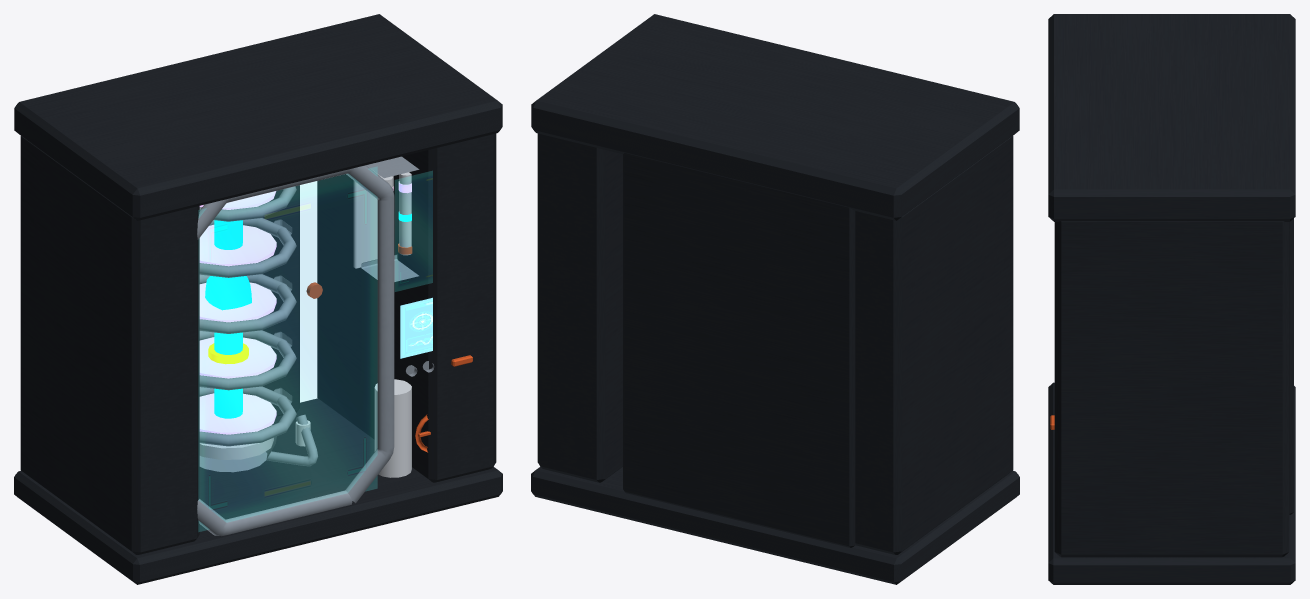
The model's file is reactor_core_r1_05.glb.
The picture shows the model from 3 angles, left to right: view 1: azimuth 30°, elevation 25°; view 2: azimuth 150°, elevation 25°; view 3: azimuth 270°, elevation 25°; orthographic projection.
Parts seen in each view (by area): view 1: Reactor05_SpinTorqueGunmetalHousing, Reactor05_TranslucentRotorDrumShields, Reactor05_StatorRingsAndSubCoolerPipes, Reactor05_UVFieldRings, Reactor05_WhiteSubCoolerManifoldAndRods, Reactor05_CyanStatorPlasmaCore, Reactor05_OLEDTorqueConsole, Reactor05_SignalOrangeTorqueValves; view 2: Reactor05_SpinTorqueGunmetalHousing; view 3: Reactor05_SpinTorqueGunmetalHousing.
Part boxes in pixels (x1,y1,x2,y2): Reactor05_SpinTorqueGunmetalHousing: (14,14,502,584); Reactor05_TranslucentRotorDrumShields: (199,167,432,531); Reactor05_StatorRingsAndSubCoolerPipes: (197,156,434,536); Reactor05_UVFieldRings: (199,181,411,434); Reactor05_WhiteSubCoolerManifoldAndRods: (199,169,411,477); Reactor05_CyanStatorPlasmaCore: (205,211,411,418); Reactor05_OLEDTorqueConsole: (400,297,432,358); Reactor05_SignalOrangeTorqueValves: (306,243,472,452); Reactor05_SpinTorqueGunmetalHousing: (531,14,1019,584); Reactor05_SpinTorqueGunmetalHousing: (1048,14,1295,584).
Bounding box in the file's own units: 2.62 × 2.68 × 1.52.
9 materials, 9 textured.
